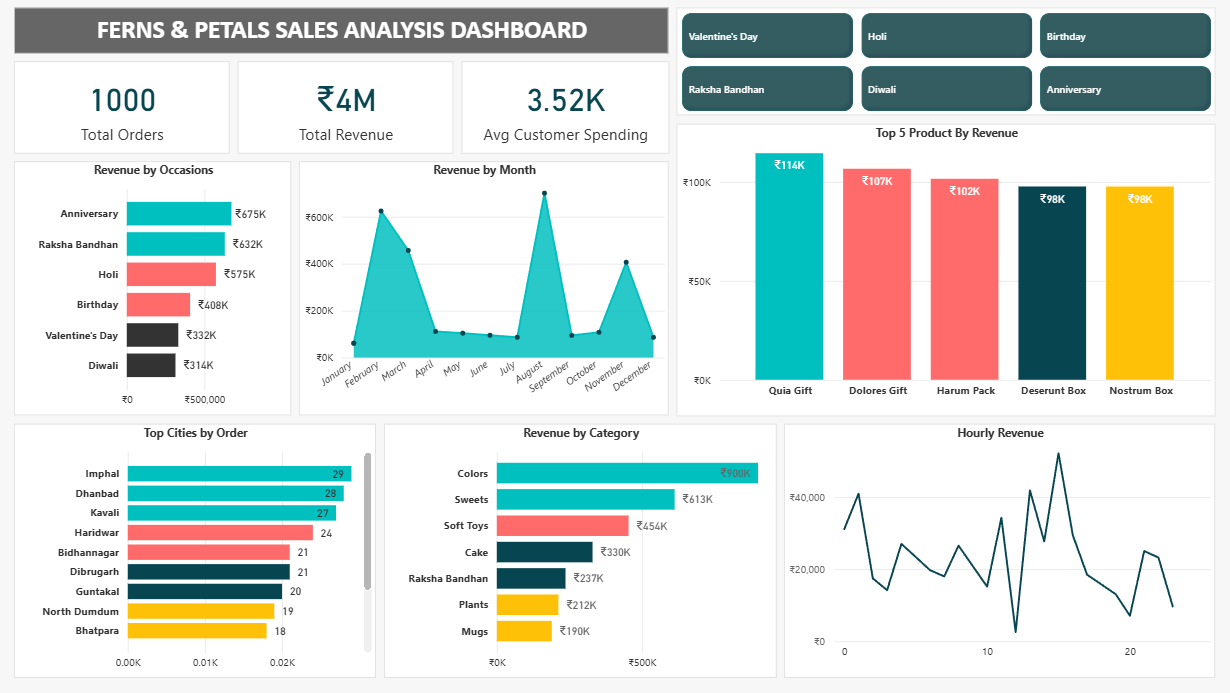

Layout of this report page (visuals, bound fields, positions):
{"tool":"powerbi","page":{"name":"Page 1","canvas":[1280,720],"ordinal":0},"visuals":[{"type":"barChart","title":"Revenue by Occasions","fields":{"Category":["OrdersTable.Occasion"],"Y":["Sum(OrdersTable.Revenue)"]},"box":[16,168,288,264],"z":0},{"type":"clusteredBarChart","title":"Revenue by Category","fields":{"Category":["ProductTable.Category"],"Y":["Sum(OrdersTable.Revenue)"]},"box":[400,440,408,264],"z":1000},{"type":"areaChart","title":"Revenue by Month","fields":{"Y":["Sum(OrdersTable.Revenue)"],"Category":["OrdersTable.Month Name"]},"box":[312,168,384,264],"z":2000},{"type":"lineClusteredColumnComboChart","title":"Top 5 Product By Revenue","fields":{"Category":["ProductTable.Product_Name"],"Y":["Sum(OrdersTable.Revenue)"]},"box":[704,128,560,304],"z":3000},{"type":"barChart","title":"Top Cities by Order","fields":{"Category":["CustomersTable.City"],"Y":["CountNonNull(OrdersTable.Order_ID)"]},"box":[16,440,376,264],"z":4000},{"type":"lineChart","title":"Hourly Revenue","fields":{"Category":["OrdersTable.Hour"],"Y":["Sum(OrdersTable.Revenue)"]},"box":[816,440,448,264],"z":5000},{"type":"card","title":"Revenue by Occasions","fields":{"Values":["CountNonNull(OrdersTable.Order_ID)"]},"box":[16,64,224,96],"z":6000},{"type":"card","title":"Revenue by Occasions","fields":{"Values":["Sum(OrdersTable.Revenue)"]},"box":[248,64,224,96],"z":7000},{"type":"card","title":"Revenue by Occasions","fields":{"Values":["OrdersTable.Avg Customer Spending"]},"box":[480,64,216,96],"z":8000},{"type":"advancedSlicerVisual","fields":{"Values":["OrdersTable.Occasion"]},"box":[704,8,560,112],"z":9000},{"type":"textbox","box":[16,8,680,48],"z":10000}]}

Visuals, with their boxes in screenshot pixels (x1, y1, x2, y2), scaled from the page's 1280x720 canvas onto the 1230x693 screenshot:
"Revenue by Occasions" barChart: <region>15, 162, 292, 416</region>
"Revenue by Category" clusteredBarChart: <region>384, 424, 776, 678</region>
"Revenue by Month" areaChart: <region>300, 162, 669, 416</region>
"Top 5 Product By Revenue" lineClusteredColumnComboChart: <region>676, 123, 1215, 416</region>
"Top Cities by Order" barChart: <region>15, 424, 377, 678</region>
"Hourly Revenue" lineChart: <region>784, 424, 1215, 678</region>
"Revenue by Occasions" card: <region>15, 62, 231, 154</region>
"Revenue by Occasions" card: <region>238, 62, 454, 154</region>
"Revenue by Occasions" card: <region>461, 62, 669, 154</region>
advancedSlicerVisual - OrdersTable.Occasion: <region>676, 8, 1215, 116</region>
textbox: <region>15, 8, 669, 54</region>
